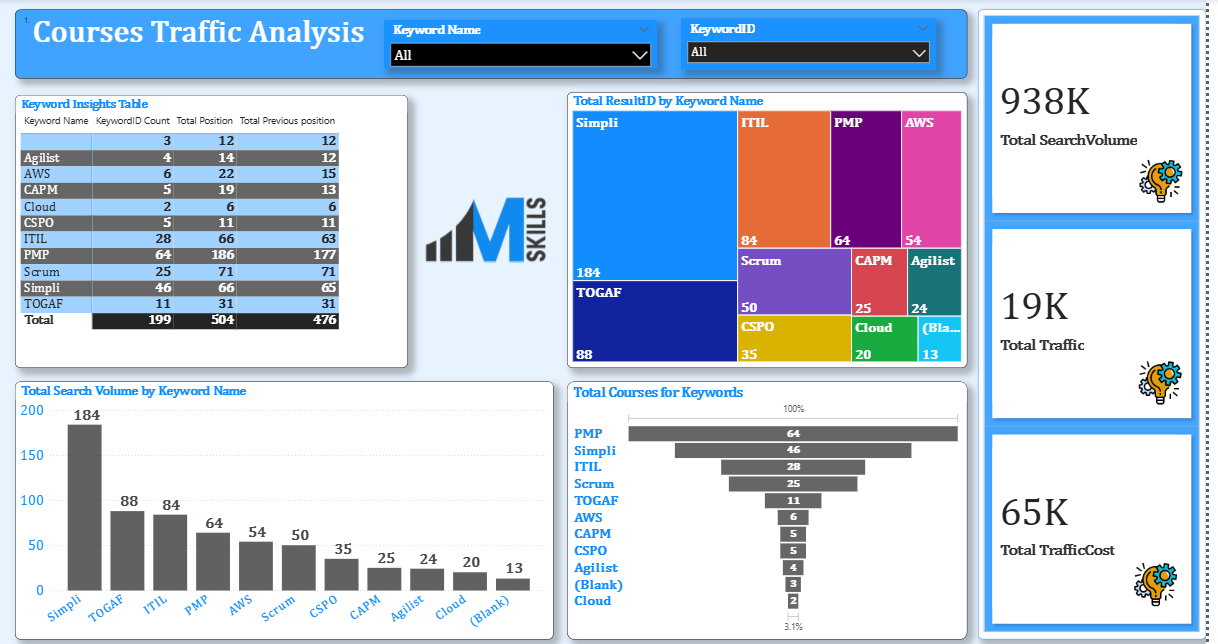

Layout of this report page (visuals, bound fields, positions):
{"tool":"powerbi","page":{"name":"Page 1","canvas":[1850,1000],"ordinal":0},"visuals":[{"type":"funnel","title":"Total Courses for Keywords","fields":{"Category":["traffic maintable.Keyword Name"],"Y":["CountNonNull(traffic maintable.KeywordID)"]},"box":[869.7,586.7,614.3,395.7],"z":0},{"type":"columnChart","title":"Total Search Volume by Keyword Name","fields":{"Category":["traffic maintable.Keyword Name"],"Y":["Sum(traffic maintable.SearchVolumeID)"]},"box":[23,586.7,825.9,395.7],"z":1000},{"type":"textbox","box":[23,16.1,1460.9,105.8],"z":2000},{"type":"image","box":[641.9,161,207.1,386.5],"z":3000},{"type":"cardVisual","fields":{"Data":["Measures (2).Total SearchVolume","Measures (2).Total Traffic","Measures (2).Total TrafficCost"]},"box":[1500,16.1,349.7,966.3],"z":4000},{"type":"treemap","fields":{"Group":["traffic maintable.Keyword Name"],"Values":["Sum(traffic maintable.ResultID)"]},"box":[869.7,142.6,614.3,423.3],"z":5000},{"type":"pivotTable","title":"Keyword Insights Table","fields":{"Values":["CountNonNull(traffic maintable.KeywordID)","Sum(traffic maintable.Position)","Sum(traffic maintable.Previous position)"],"Rows":["traffic maintable.Keyword Name"]},"box":[23,147.2,602.8,418.7],"z":6000},{"type":"slicer","fields":{"Values":["traffic maintable.Keyword Name"]},"box":[587.9,32.8,419.6,74.3],"z":7000},{"type":"slicer","fields":{"Values":["traffic maintable.KeywordID"]},"box":[1044.7,30.6,391.2,78.7],"z":8000},{"type":"image","box":[1732.4,239.3,96.6,80.5],"z":9000},{"type":"image","box":[1739.3,547.6,80.5,82.8],"z":11000},{"type":"image","box":[1732.4,848.9,80.5,98.9],"z":12000}]}

Visuals, with their boxes in screenshot pixels (x1, y1, x2, y2), scaled from the page's 1850x1000 canvas onto the 1218x644 screenshot:
"Total Courses for Keywords" funnel: detection(573, 378, 977, 633)
"Total Search Volume by Keyword Name" columnChart: detection(15, 378, 559, 633)
textbox: detection(15, 10, 977, 79)
image: detection(423, 104, 559, 353)
cardVisual - Measures (2).Total SearchVolume x Measures (2).Total Traffic: detection(988, 10, 1217, 633)
treemap - traffic maintable.Keyword Name x Sum(traffic maintable.ResultID): detection(573, 92, 977, 364)
"Keyword Insights Table" pivotTable: detection(15, 95, 412, 364)
slicer - traffic maintable.Keyword Name: detection(387, 21, 663, 69)
slicer - traffic maintable.KeywordID: detection(688, 20, 945, 70)
image: detection(1141, 154, 1204, 206)
image: detection(1145, 353, 1198, 406)
image: detection(1141, 547, 1194, 610)
